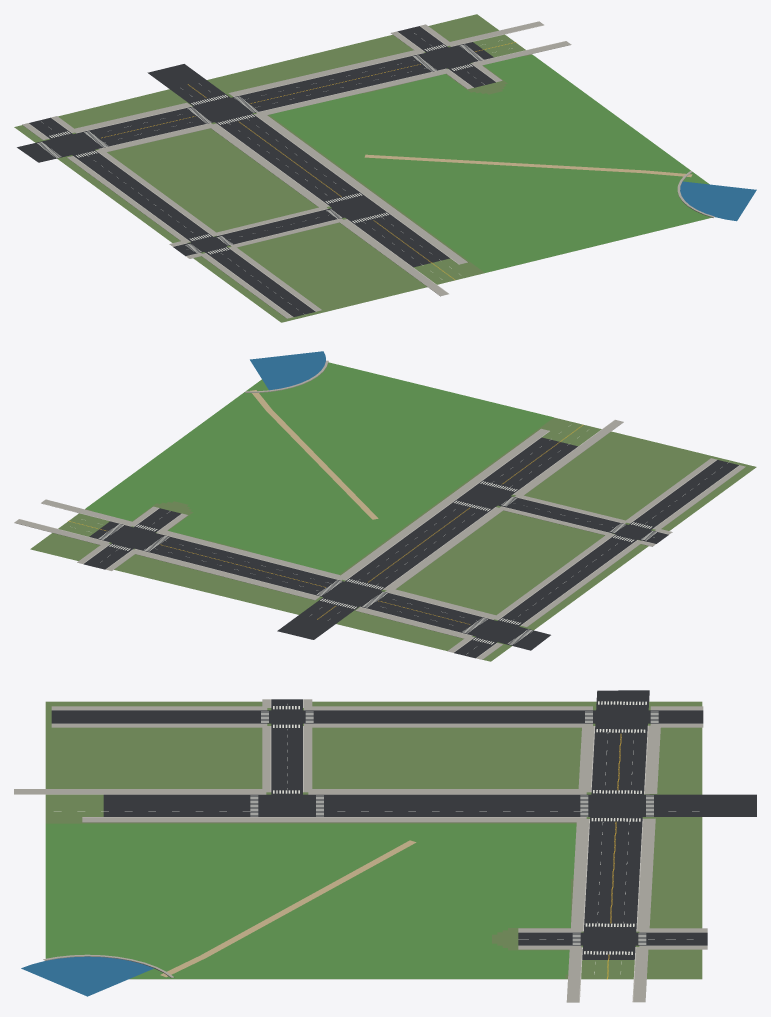
Rendered from Ground_5_6.fbx.
The picture shows the model from 3 angles, top to bottom: view 1: azimuth 30°, elevation 25°; view 2: azimuth 150°, elevation 25°; view 3: azimuth 270°, elevation 25°; orthographic projection. The views are drawn at different scales.
Visible parts, largest first — view 1: Ground_5_6; view 2: Ground_5_6; view 3: Ground_5_6.
Part boxes in pixels (left/top/right/bottom): Ground_5_6: left=14, top=14, right=756, bottom=322; Ground_5_6: left=14, top=351, right=756, bottom=661; Ground_5_6: left=14, top=690, right=756, bottom=1002.
Bounding box in the file's own units: 281 × 0.4 × 283.
